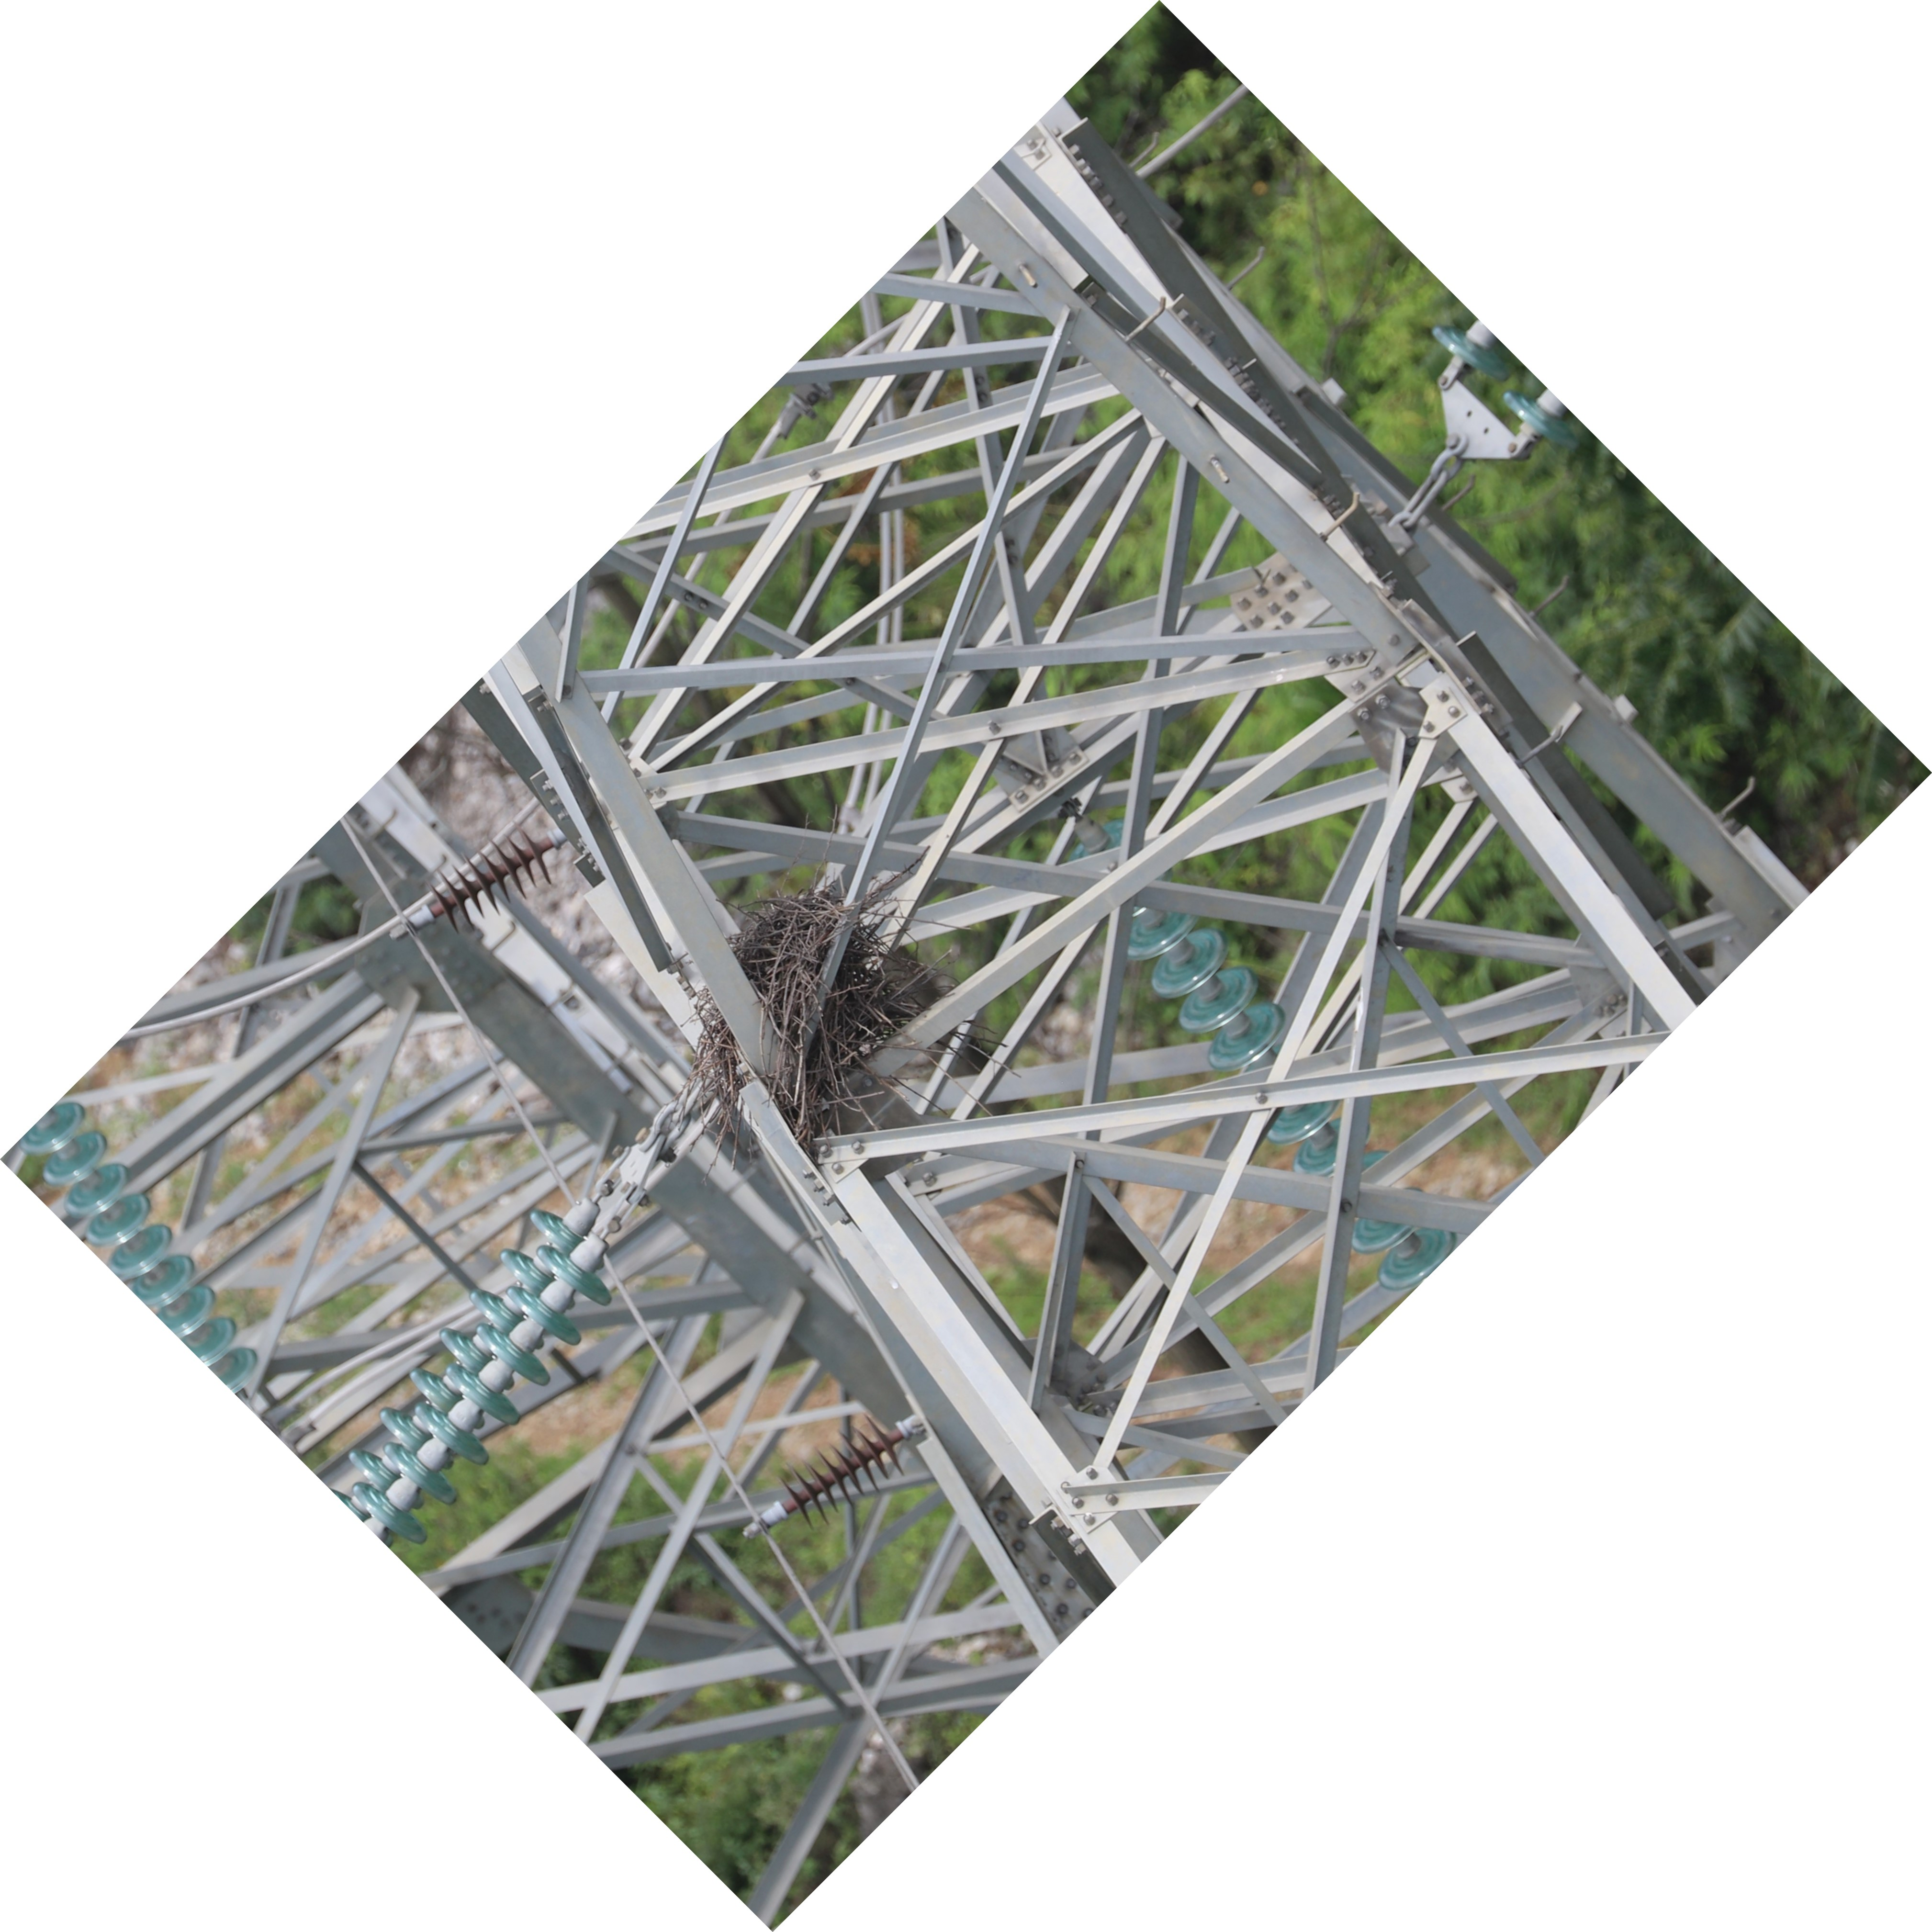niaowo: (656, 855, 941, 1159)
